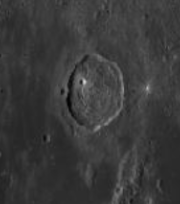crater: (50, 34, 131, 146), (137, 70, 157, 107)
